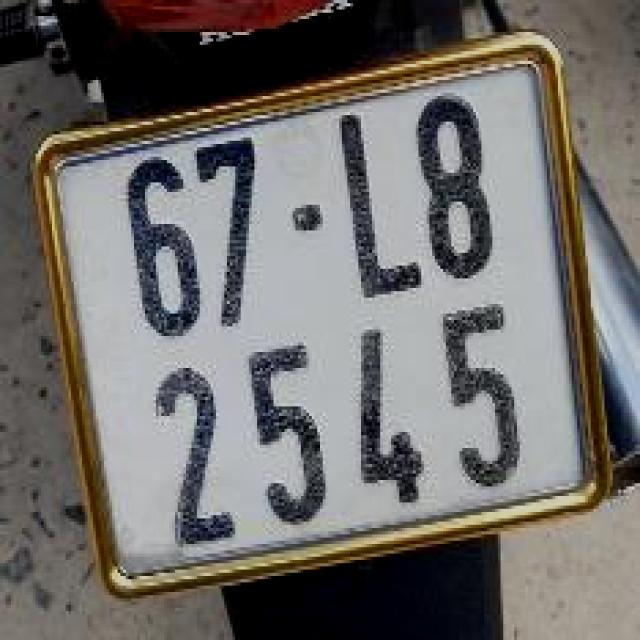2: (142, 354, 235, 552)
4: (346, 317, 425, 512)
5: (435, 296, 522, 501), (242, 334, 330, 530)
6: (114, 148, 206, 338)
7: (190, 133, 269, 331)
8: (413, 85, 501, 280)
L: (330, 107, 422, 299)
